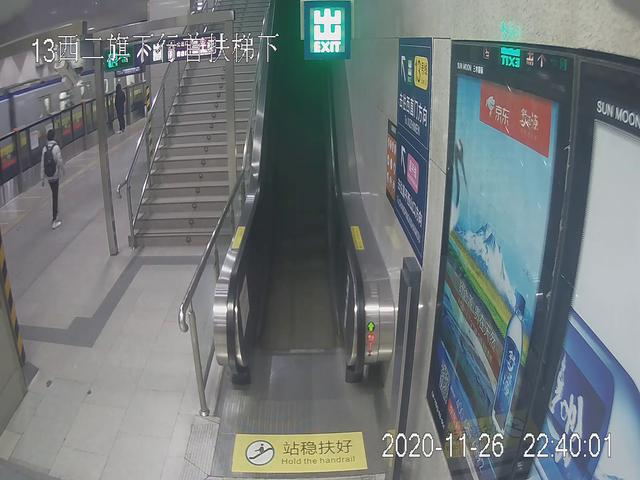person: (38, 125, 70, 228), (113, 84, 129, 133)
